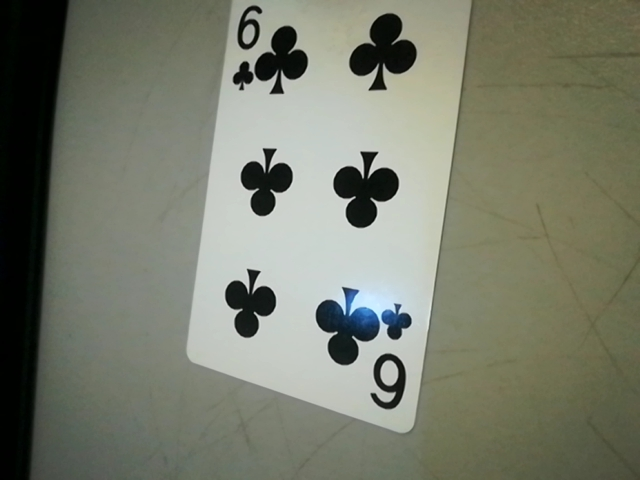mh 6: (365, 308, 419, 420)
